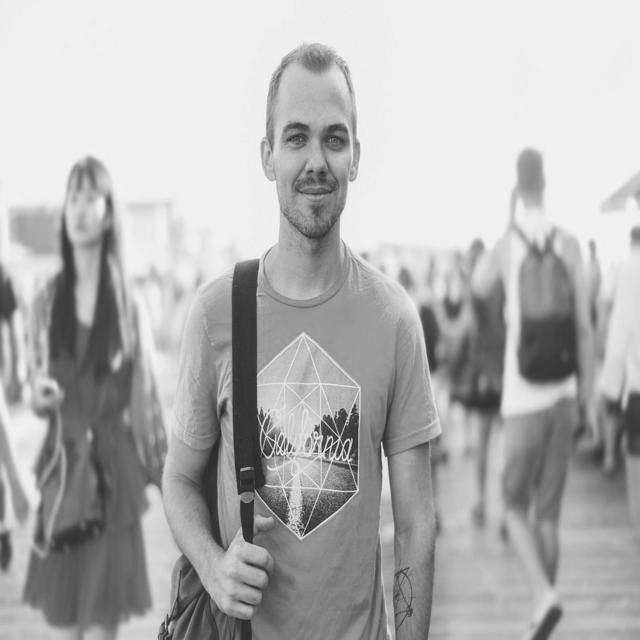Happiness: (262, 60, 360, 242)
